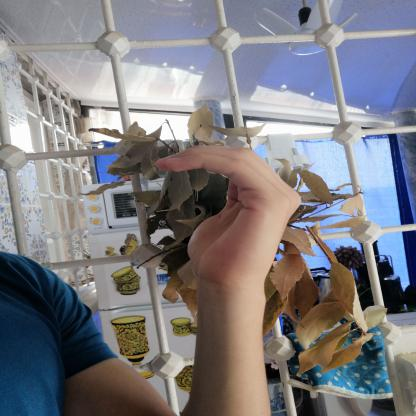HAA: (128, 136, 314, 294)
